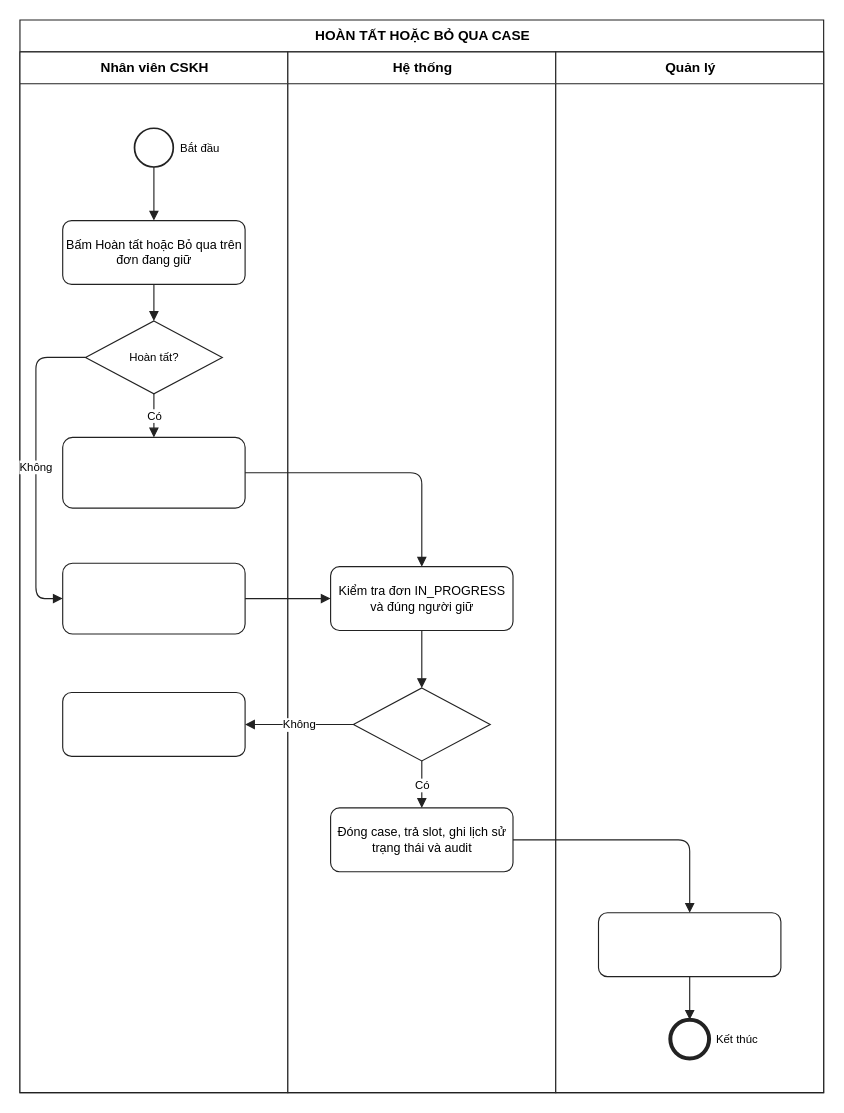
This 844x1113 diagram has some shape labels left out. Here are the shapes that lost their labels. From the top down, the centre of each, then its label:
(153,472): Chọn kết quả: Có vấn đề / Không có vấn đề / Trùng
(153,598): Chọn lý do bỏ qua; chọn Khác thì bắt buộc ghi chú
(153,723): Đọc lỗi, dữ liệu giữ nguyên
(421,724): Hợp lệ?
(689,944): Xem đơn trong danh sách chờ Quyết định (nếu cần)
